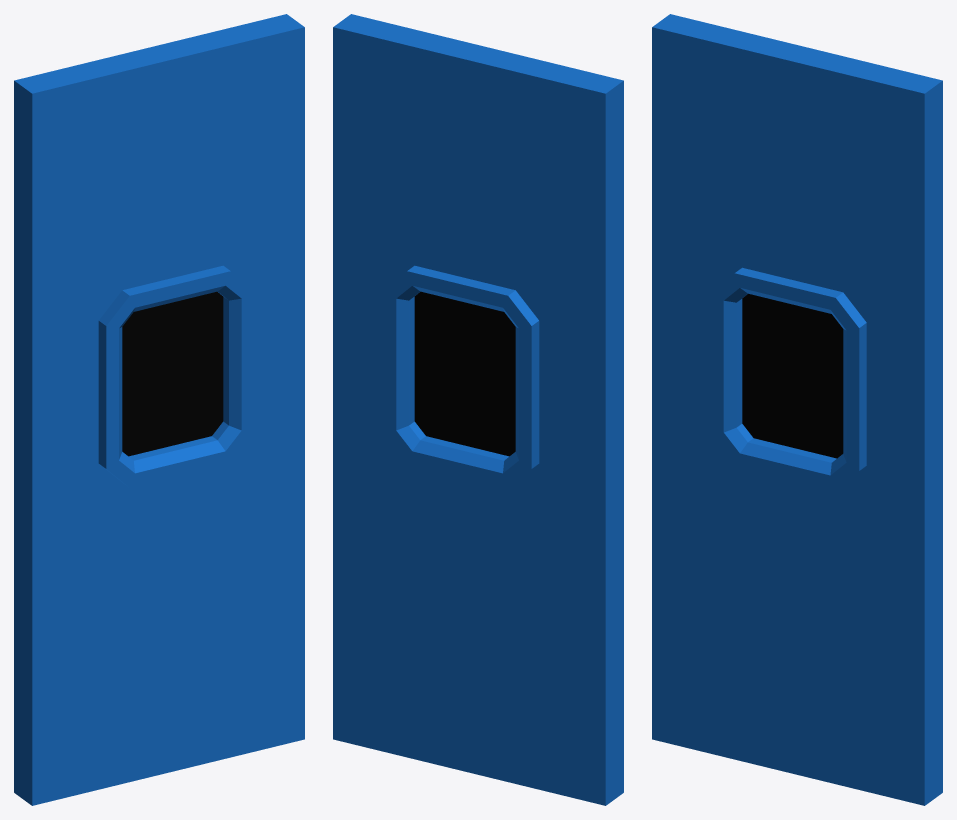
File: SM_wall.fbx
The picture shows the model from 3 angles, left to right: view 1: azimuth 30°, elevation 25°; view 2: azimuth 150°, elevation 25°; view 3: azimuth 330°, elevation 25°; orthographic projection.
Visible parts, largest first — view 1: Cube_27; view 2: Cube_27; view 3: Cube_27.
Boxes of the visible parts, <box> form: Cube_27: <box>14,14,304,805</box>; Cube_27: <box>333,14,623,805</box>; Cube_27: <box>652,14,942,805</box>.
Bounding box in the file's own units: 1250 × 3120 × 263.
